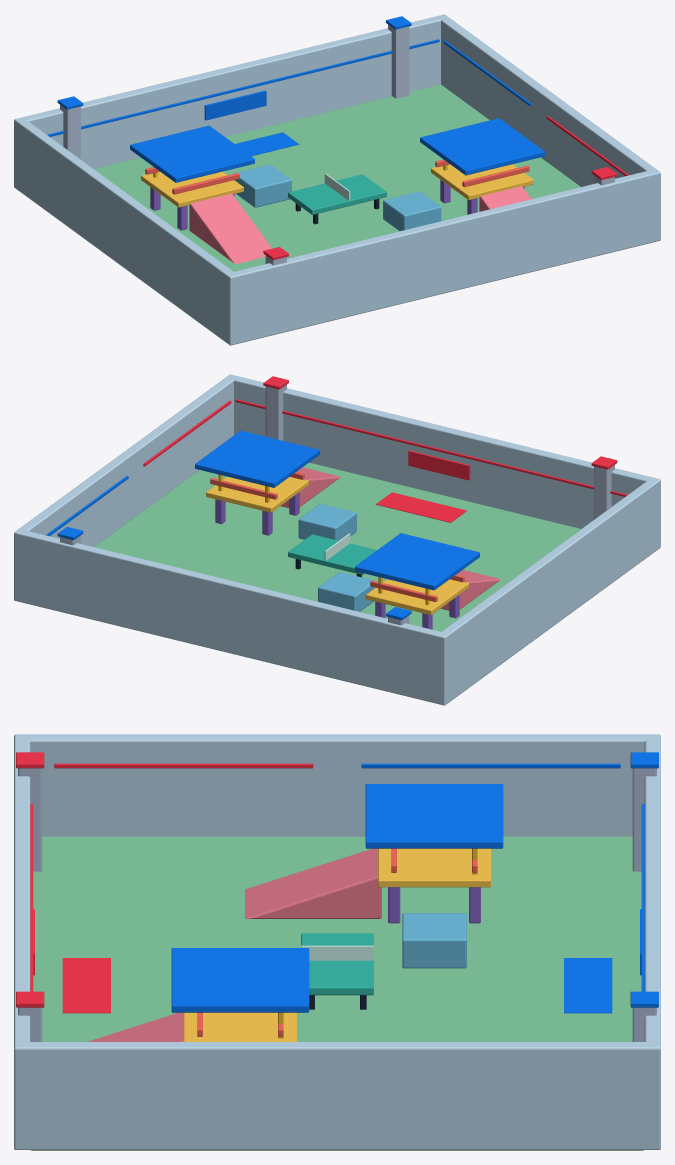
File: Parquinho.glb
The picture shows the model from 3 angles, top to bottom: view 1: azimuth 30°, elevation 25°; view 2: azimuth 150°, elevation 25°; view 3: azimuth 270°, elevation 25°; orthographic projection. The views are drawn at different scales.
Visible parts, largest first — view 1: Parquinho_PB_beddf1, Parquinho_PB_7fcda0, Parquinho_PB_087bff, Parquinho_PB_f78298, Parquinho_PB_ffcb4b, Parquinho_PB_6bbee3, Parquinho_PB_b5c6df, Parquinho_PB_32bbaa, Parquinho_PB_ff685b, Parquinho_PB_8b68cf, Parquinho_PB_ff304b; view 2: Parquinho_PB_beddf1, Parquinho_PB_7fcda0, Parquinho_PB_087bff, Parquinho_PB_ff304b, Parquinho_PB_ffcb4b, Parquinho_PB_6bbee3, Parquinho_PB_b5c6df, Parquinho_PB_32bbaa, Parquinho_PB_f78298, Parquinho_PB_8b68cf, Parquinho_PB_ff685b; view 3: Parquinho_PB_beddf1, Parquinho_PB_7fcda0, Parquinho_PB_087bff, Parquinho_PB_f78298, Parquinho_PB_ffcb4b, Parquinho_PB_ff304b, Parquinho_PB_6bbee3, Parquinho_PB_b5c6df, Parquinho_PB_32bbaa, Parquinho_PB_d8fff5, Parquinho_PB_8b68cf.
Part boxes in pixels (bbox=[...]): Parquinho_PB_beddf1: bbox=[14, 14, 660, 345]; Parquinho_PB_7fcda0: bbox=[94, 84, 580, 271]; Parquinho_PB_087bff: bbox=[47, 16, 544, 182]; Parquinho_PB_f78298: bbox=[189, 186, 531, 264]; Parquinho_PB_ffcb4b: bbox=[141, 164, 533, 207]; Parquinho_PB_6bbee3: bbox=[234, 164, 441, 231]; Parquinho_PB_b5c6df: bbox=[60, 24, 614, 265]; Parquinho_PB_32bbaa: bbox=[288, 174, 386, 214]; Parquinho_PB_ff685b: bbox=[145, 160, 529, 194]; Parquinho_PB_8b68cf: bbox=[150, 180, 524, 230]; Parquinho_PB_ff304b: bbox=[263, 116, 628, 260]; Parquinho_PB_beddf1: bbox=[14, 374, 660, 705]; Parquinho_PB_7fcda0: bbox=[94, 462, 580, 631]; Parquinho_PB_087bff: bbox=[46, 430, 479, 620]; Parquinho_PB_ff304b: bbox=[143, 376, 627, 522]; Parquinho_PB_ffcb4b: bbox=[206, 476, 468, 614]; Parquinho_PB_6bbee3: bbox=[298, 504, 375, 611]; Parquinho_PB_b5c6df: bbox=[60, 384, 614, 625]; Parquinho_PB_32bbaa: bbox=[288, 534, 376, 574]; Parquinho_PB_f78298: bbox=[280, 467, 500, 610]; Parquinho_PB_8b68cf: bbox=[215, 492, 459, 629]; Parquinho_PB_ff685b: bbox=[210, 472, 464, 602]; Parquinho_PB_beddf1: bbox=[14, 734, 660, 1149]; Parquinho_PB_7fcda0: bbox=[31, 836, 643, 1150]; Parquinho_PB_087bff: bbox=[171, 752, 658, 1013]; Parquinho_PB_f78298: bbox=[87, 848, 381, 1041]; Parquinho_PB_ffcb4b: bbox=[184, 848, 490, 1041]; Parquinho_PB_ff304b: bbox=[16, 752, 313, 1013]; Parquinho_PB_6bbee3: bbox=[402, 913, 466, 968]; Parquinho_PB_b5c6df: bbox=[18, 768, 656, 1041]; Parquinho_PB_32bbaa: bbox=[301, 933, 373, 995]; Parquinho_PB_d8fff5: bbox=[301, 945, 373, 960]; Parquinho_PB_8b68cf: bbox=[388, 887, 480, 923].
Bounding box in the file's own units: 25.76 × 4.7 × 22.4.
